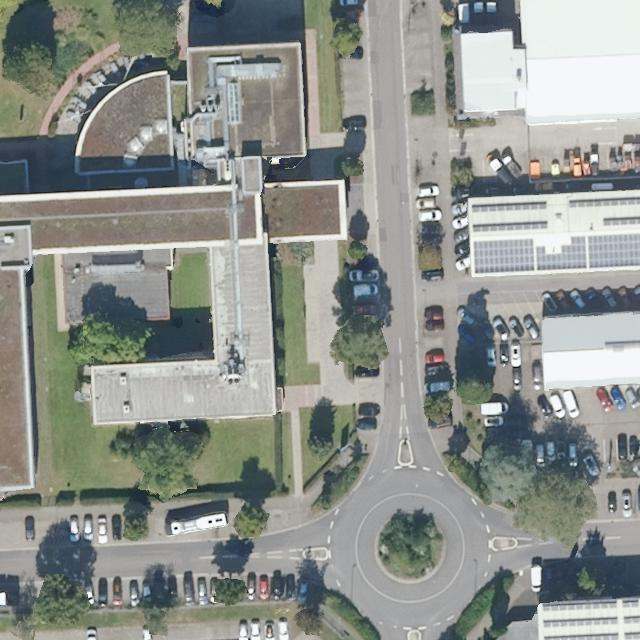PV: (473, 231, 638, 275), (470, 199, 550, 215), (471, 219, 550, 235), (568, 195, 639, 210), (602, 215, 639, 229)
